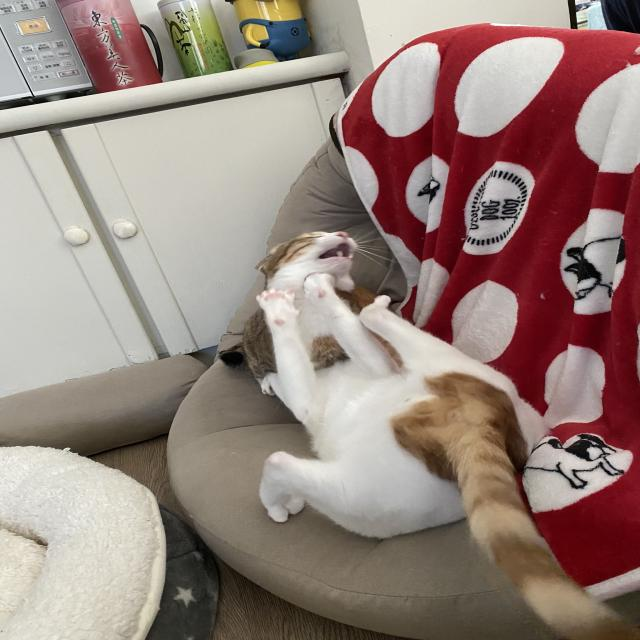cat1: (260, 288, 557, 637)
cat2: (227, 222, 373, 385)
